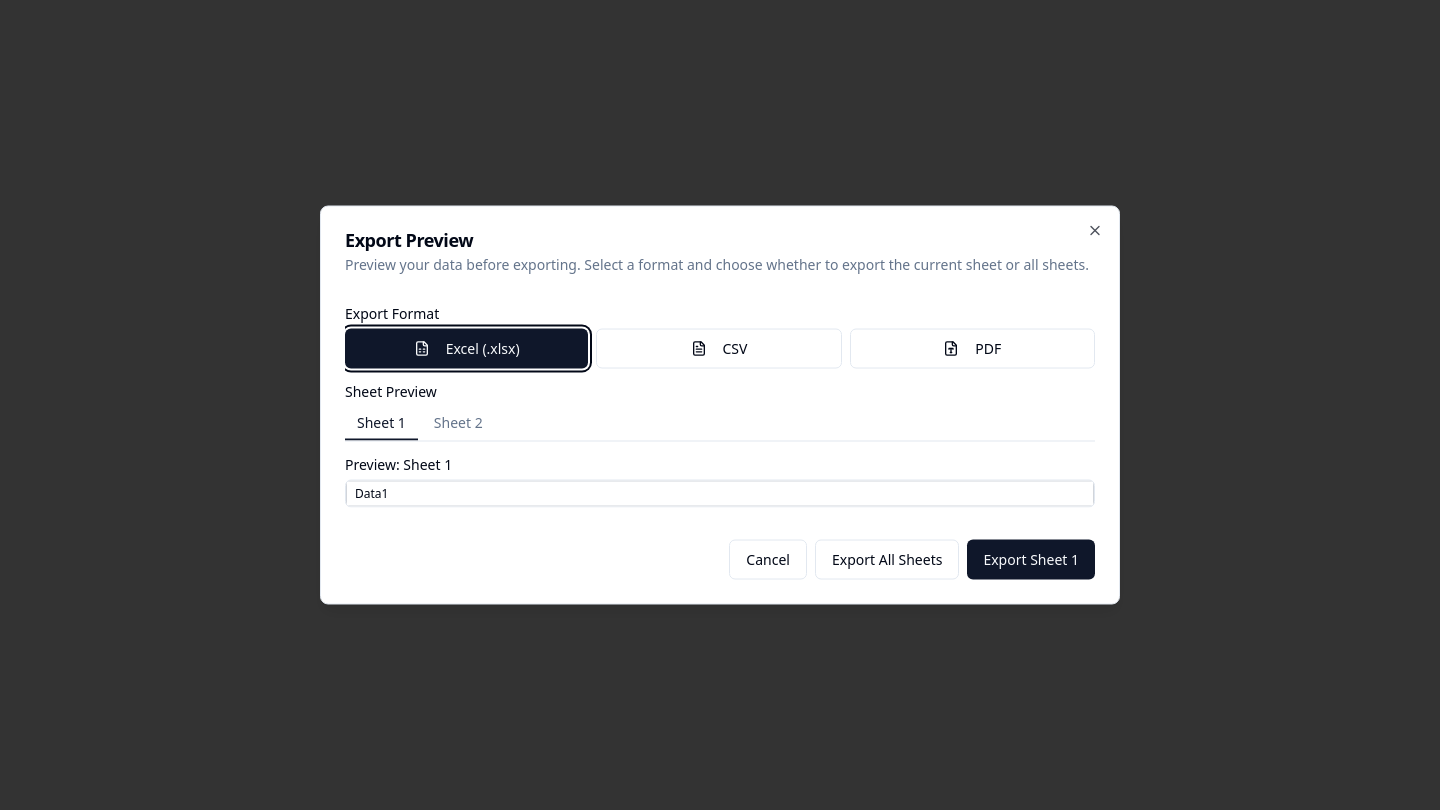
Scenario: ExportPreviewDialog › sheet tabs › switches preview when clicking different sheet tab
Expected: the text "Data1" is shown, [346,481,1094,506]
Expected: the text "Data2" is not shown
Note: Click Sheet 2 tab
Click the button with test id "sheet-tab-sheet-2". click: click(458, 424)
box: [422,406,495,440]
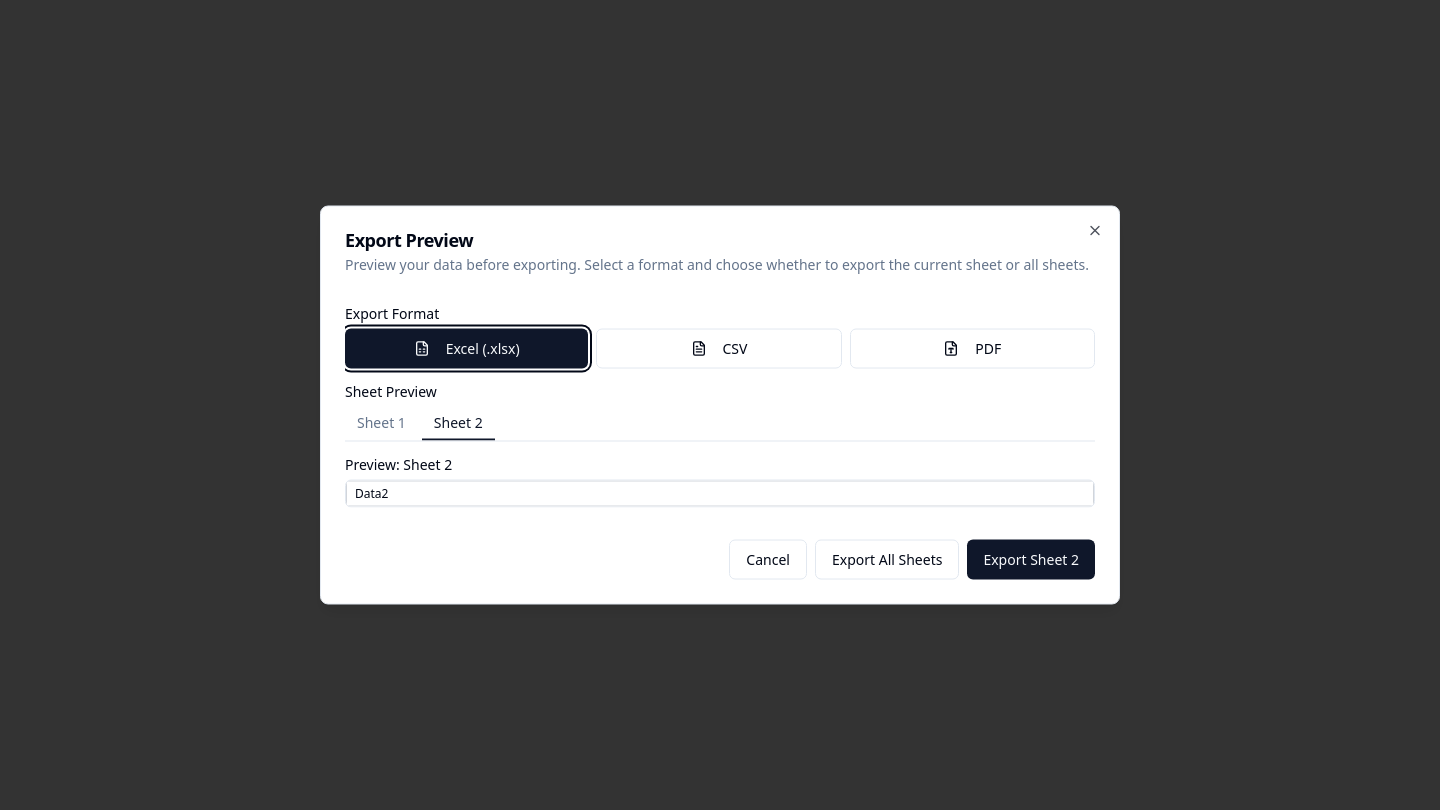
Expected: the text "Data2" is shown, [346,481,1094,506]
Expected: the text "Data1" is gone
